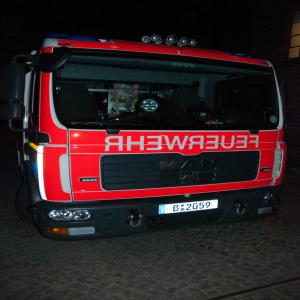Vehicle-registration-plate: (160, 201, 220, 216)
